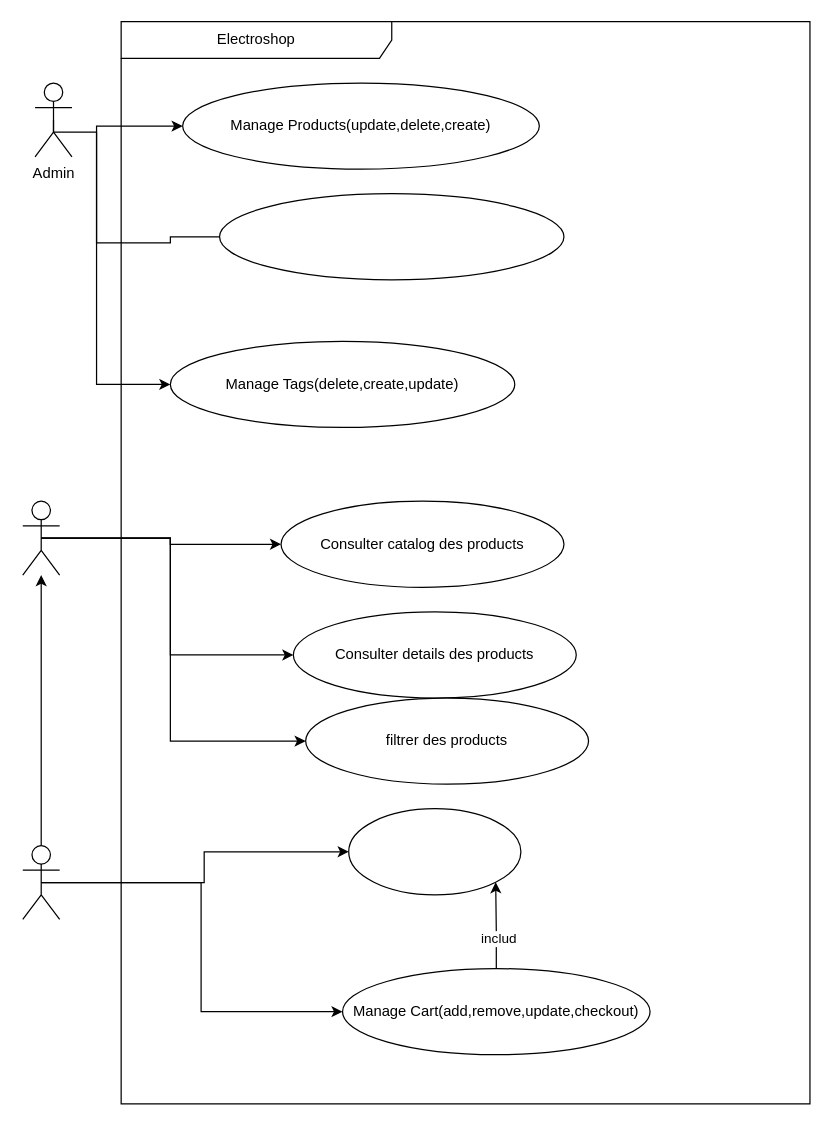
This 831x1125 diagram has some shape labels left out. Here are the shapes that lost their labels. From the top down, the box of each, then its label:
(218, 192, 564, 280): Manage Categories(delete,update,create)
(22, 500, 60, 575): Guest
(347, 807, 521, 895): Authenticate
(22, 844, 60, 919): Client
